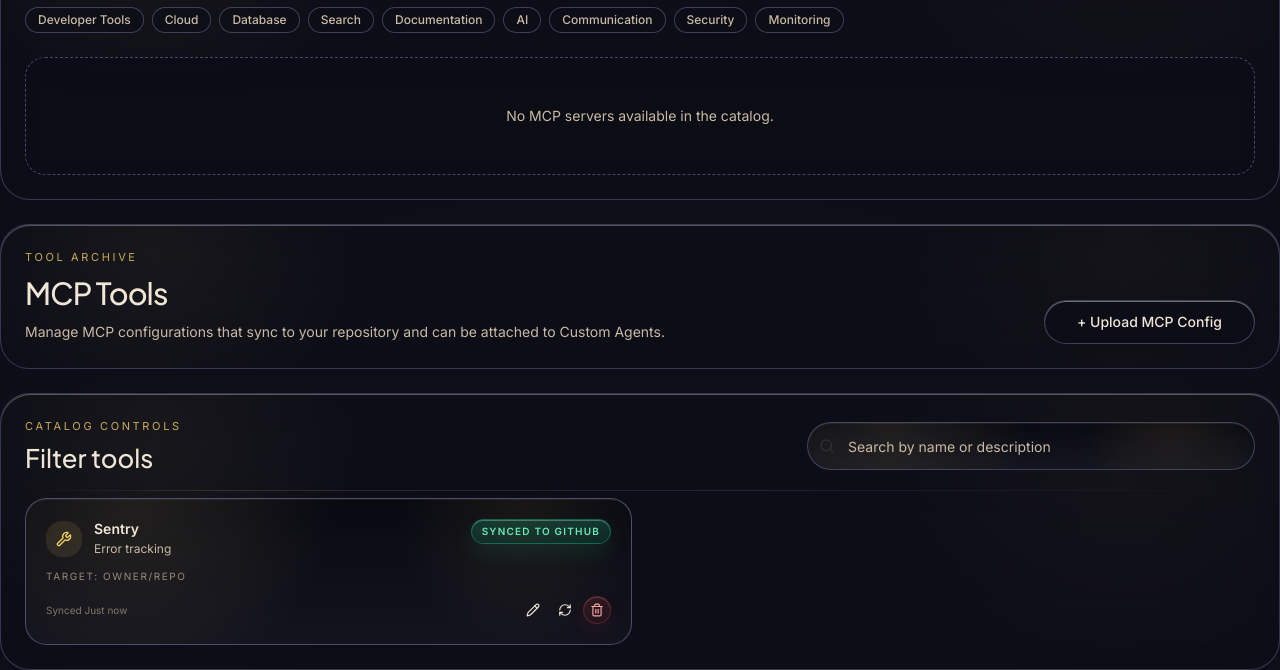
Test: ToolsPanel › shows "no tools match" when search yields no results
The width and height of the screenshot is (1280, 670).
(page scrolled)
Type "nonexistent" into the field with placeholder "Search by name or description" at point(1031, 446), box 807,422 -> 1255,470
(page scrolled)
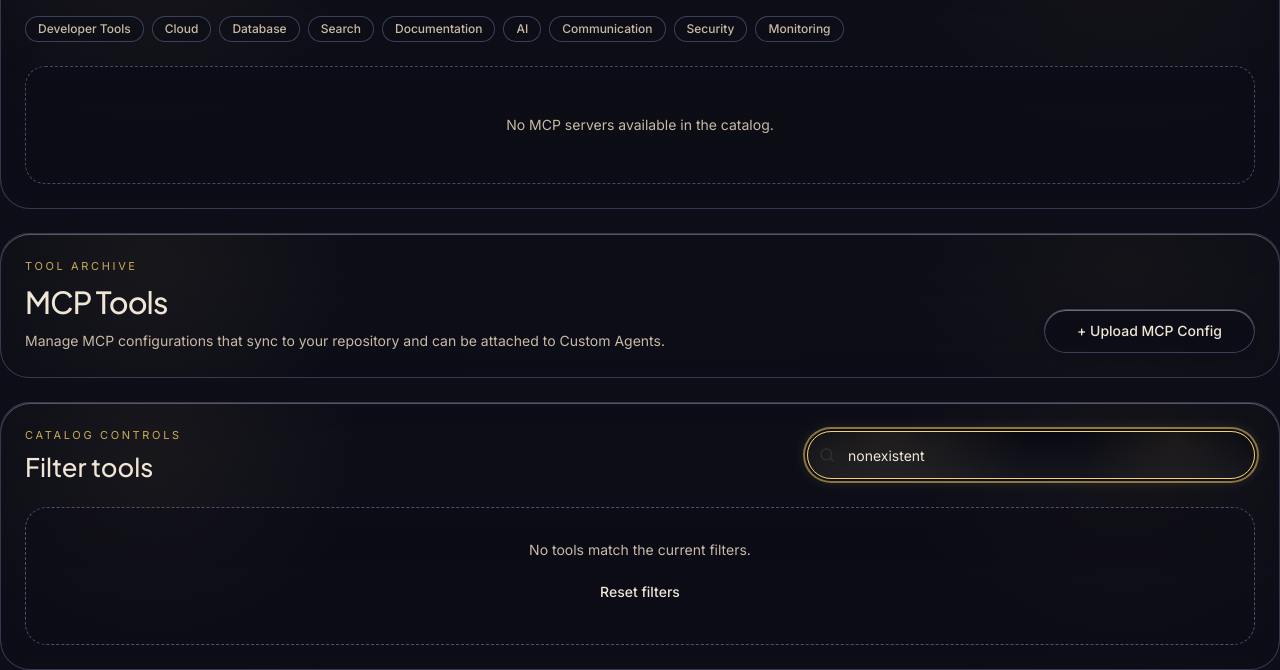
Now the text "No tools match the current filters." is shown, box 529,541 -> 751,558
